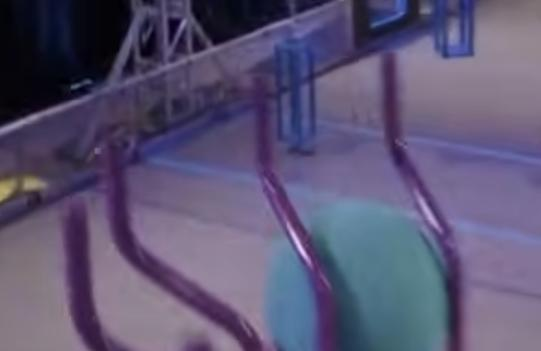algae: (265, 202, 454, 350)
